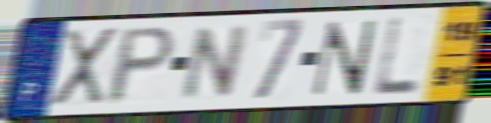7: (253, 16, 305, 104)
L: (370, 15, 422, 98)
N: (176, 23, 253, 103), (308, 18, 381, 99)
P: (102, 23, 180, 108)
X: (50, 25, 120, 110)
